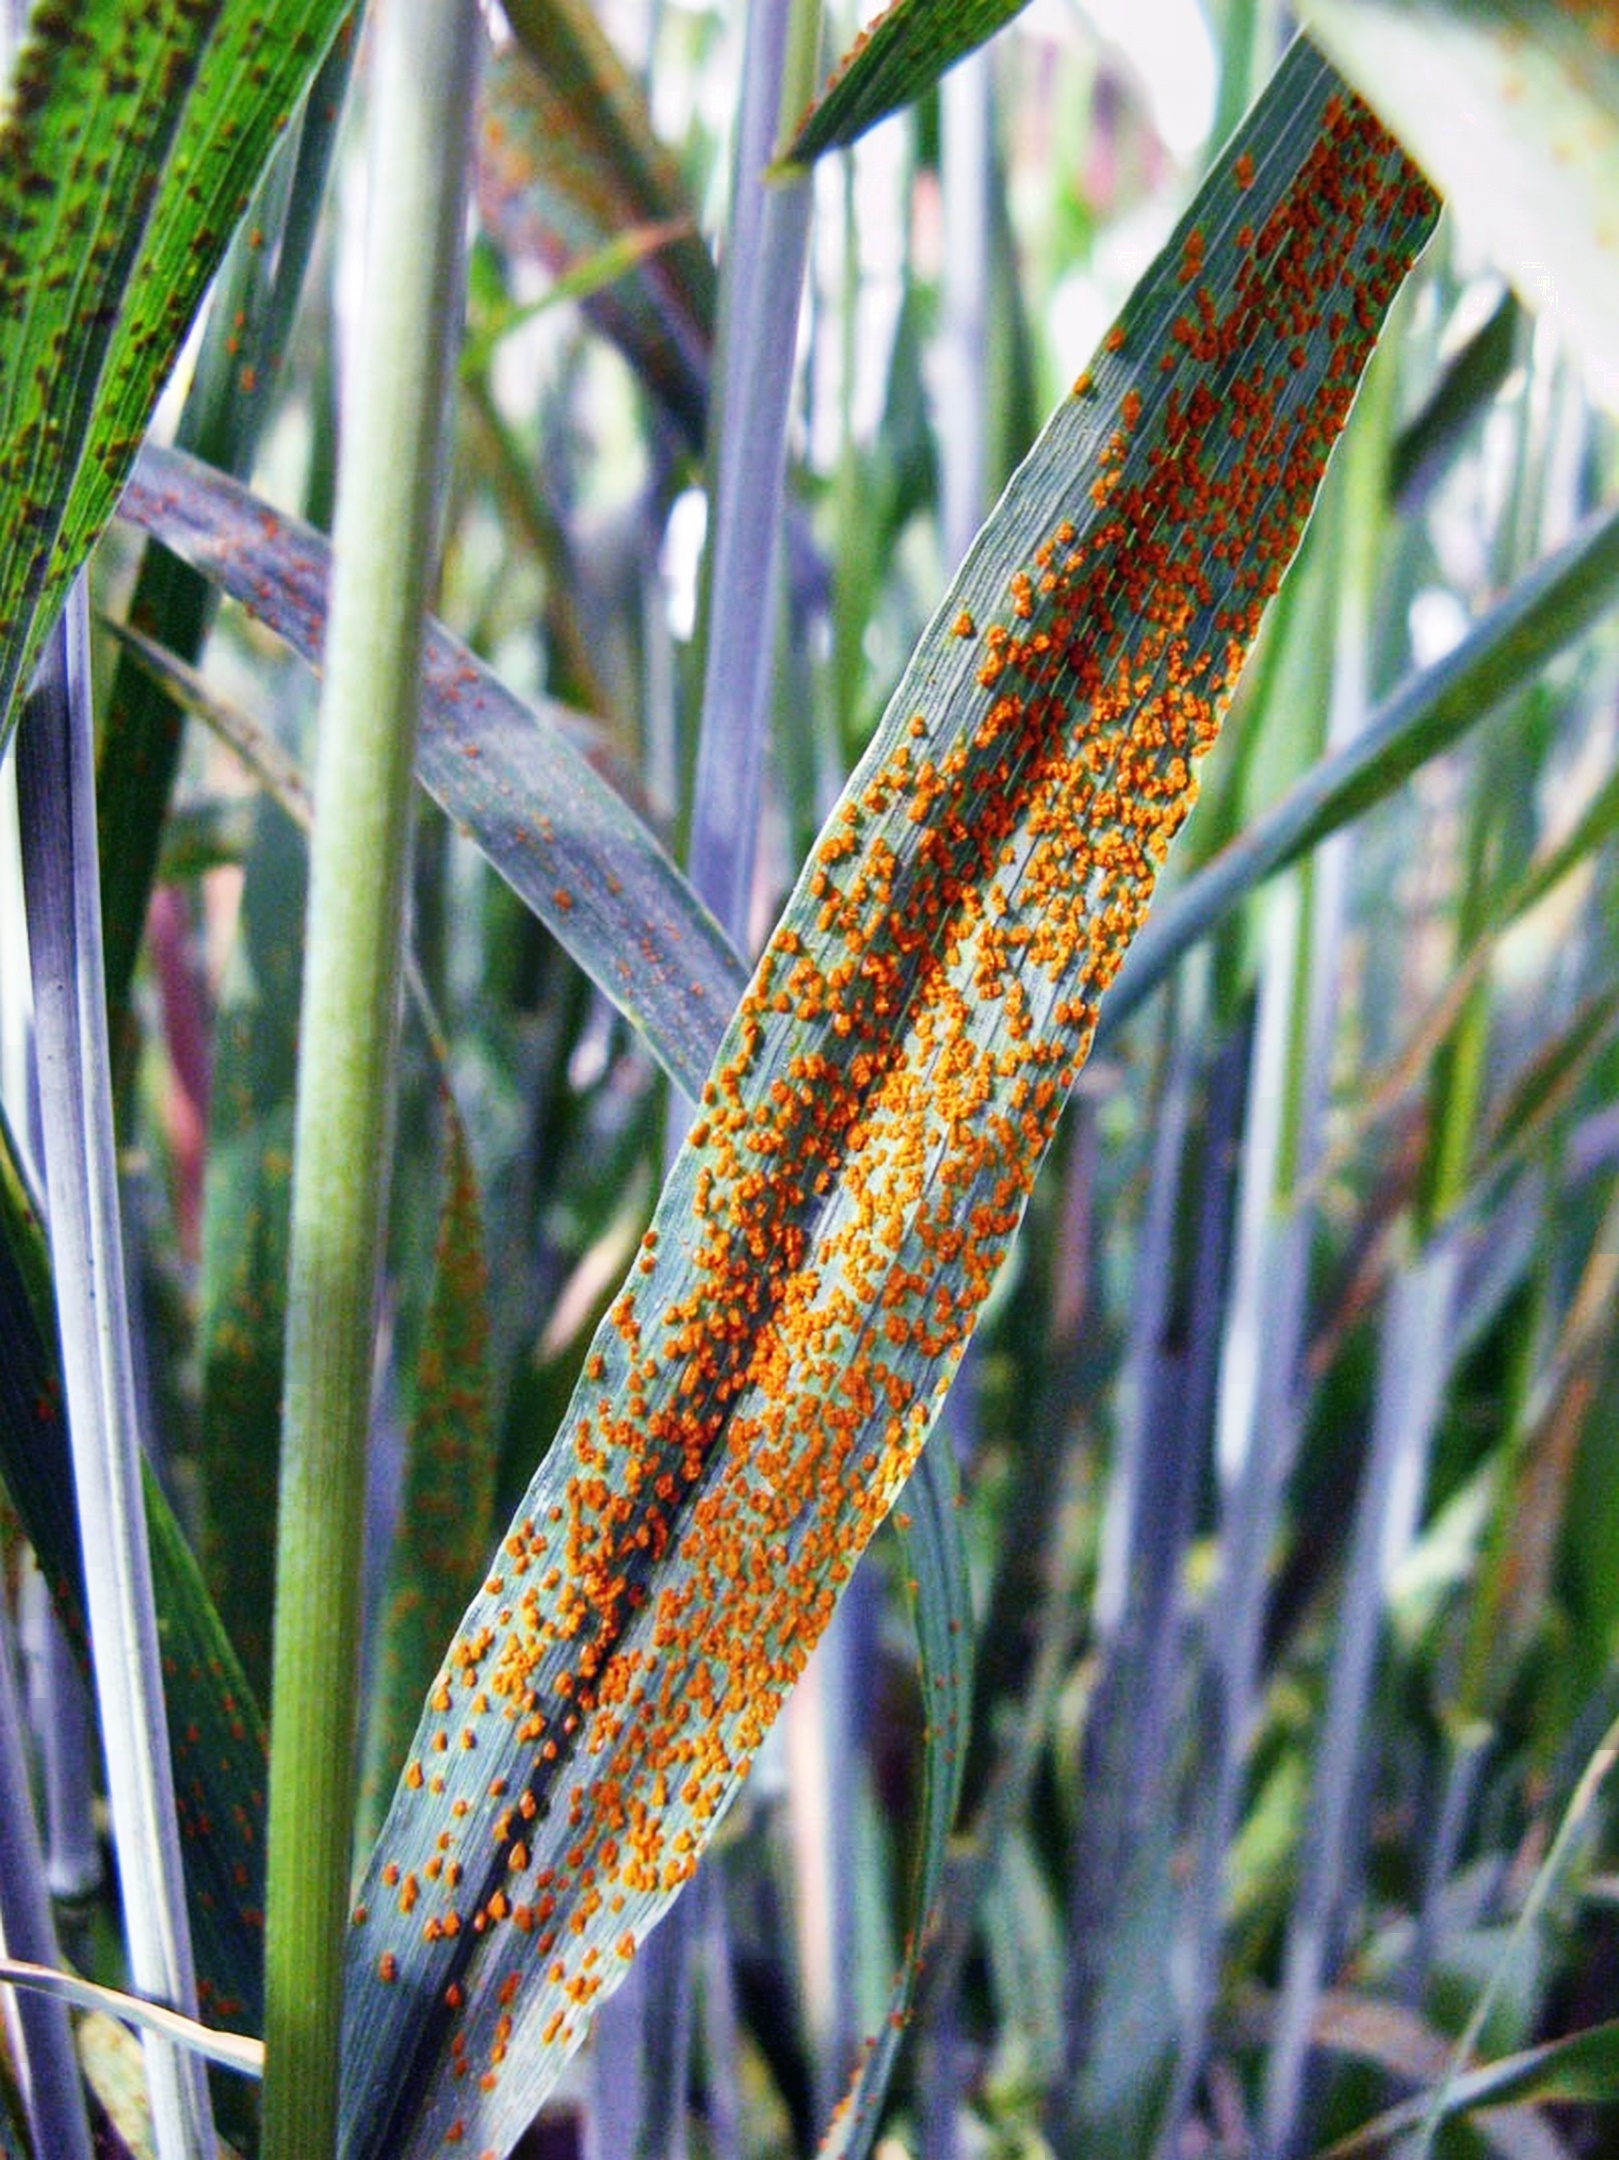Leaf Rust: (408, 196, 1408, 2012)
